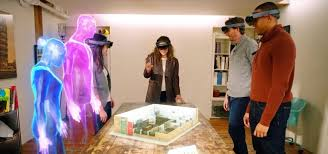hololens: (244, 8, 281, 26), (220, 22, 249, 36), (87, 37, 114, 50), (153, 41, 173, 49)
